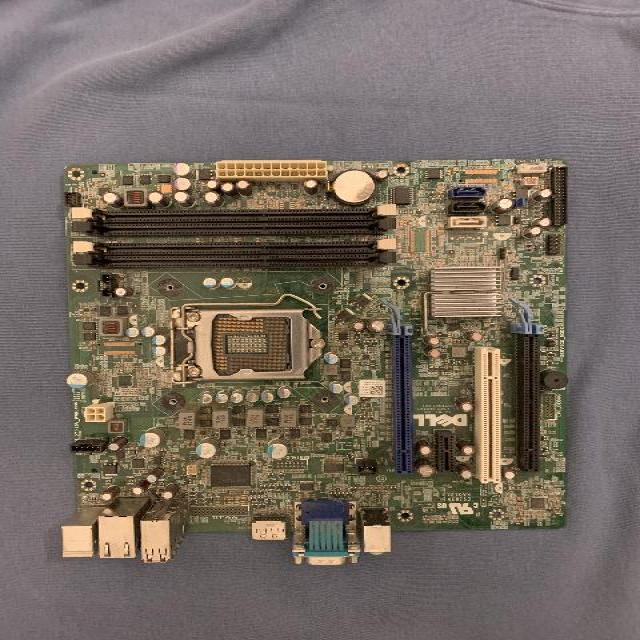Mainboard: (63, 162, 569, 566)
